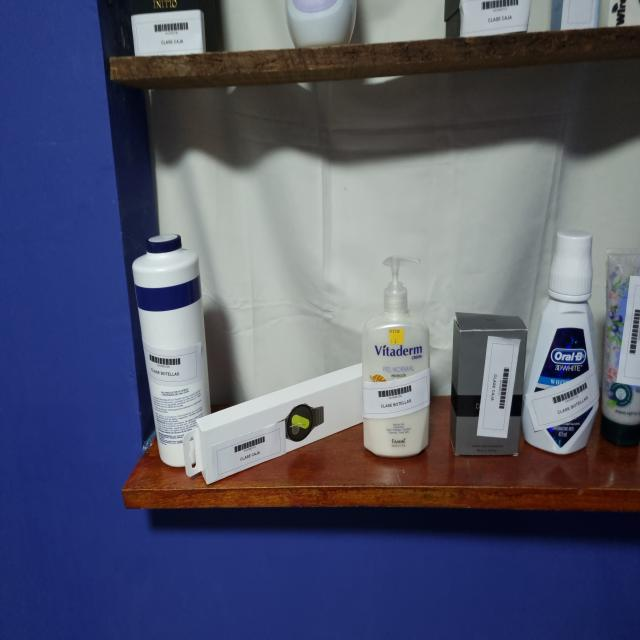botella: (132, 234, 210, 467), (525, 231, 599, 454), (362, 255, 431, 457), (601, 249, 640, 447), (285, 0, 356, 48)
caja: (181, 364, 363, 484), (450, 312, 527, 456), (131, 0, 206, 56), (445, 0, 531, 37), (550, 0, 599, 32)
